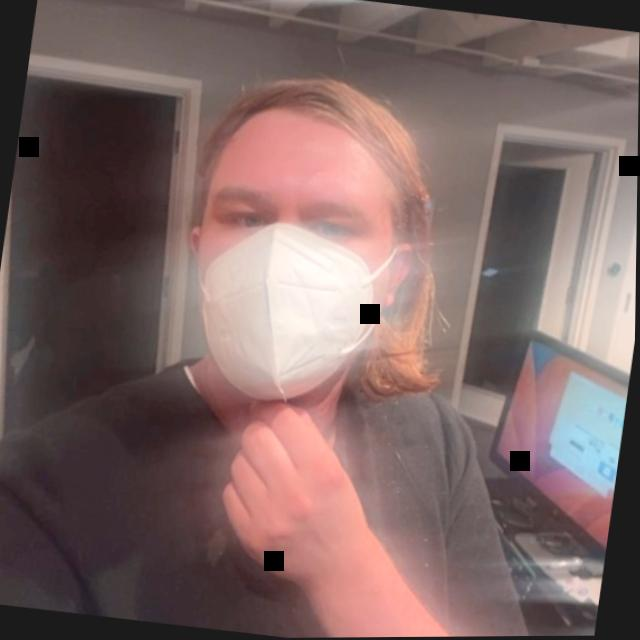Mask: (140, 32, 452, 435)
